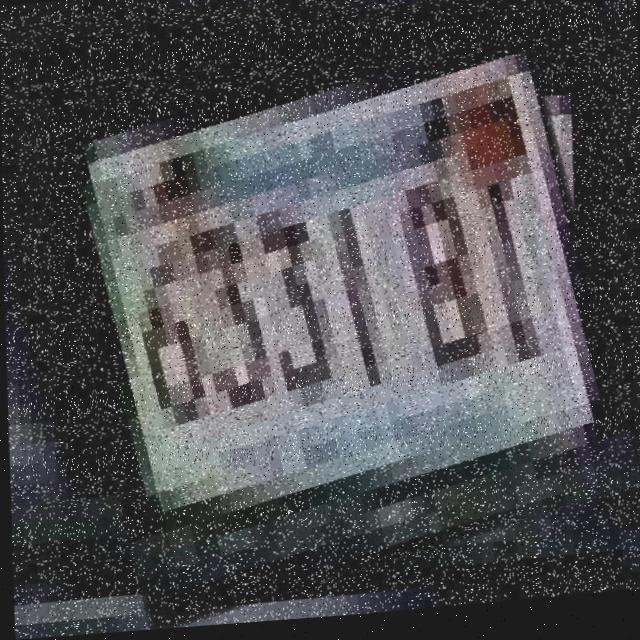LicensePlate: (44, 0, 618, 621)
